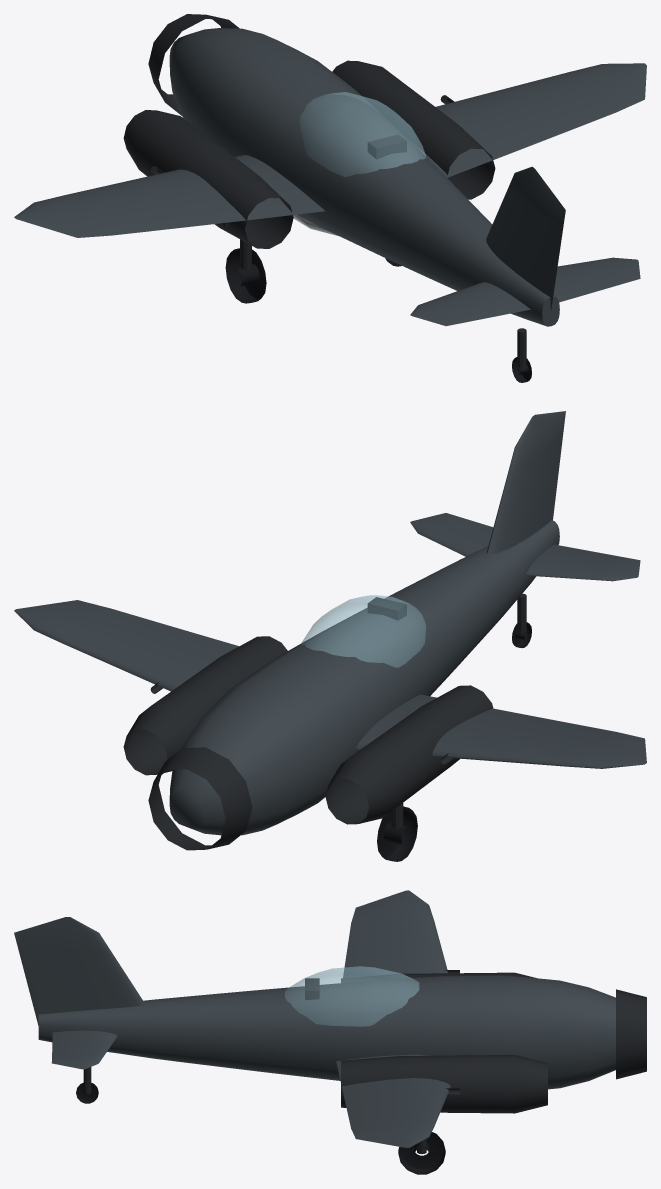
File: vector.glb
3 renders of one model, top to bottom at view 1: azimuth 30°, elevation 25°; view 2: azimuth 150°, elevation 25°; view 3: azimuth 270°, elevation 25°, orthographic. The views are drawn at different scales.
Parts seen in each view (by area): view 1: AIRFRAME, HULL, GLASS; view 2: AIRFRAME, HULL, GLASS; view 3: HULL, AIRFRAME, GLASS.
Boxes of the visible parts, box(x1,y1,x2,y2) form: AIRFRAME: box(14, 60, 646, 382); HULL: box(148, 14, 559, 326); GLASS: box(300, 92, 425, 176); AIRFRAME: box(14, 411, 646, 861); HULL: box(148, 520, 559, 850); GLASS: box(300, 595, 425, 667); HULL: box(38, 975, 646, 1089); AIRFRAME: box(14, 890, 547, 1174); GLASS: box(285, 966, 418, 1026).
Size of the model in its own units: 10.8 by 4.41 by 11.24.
